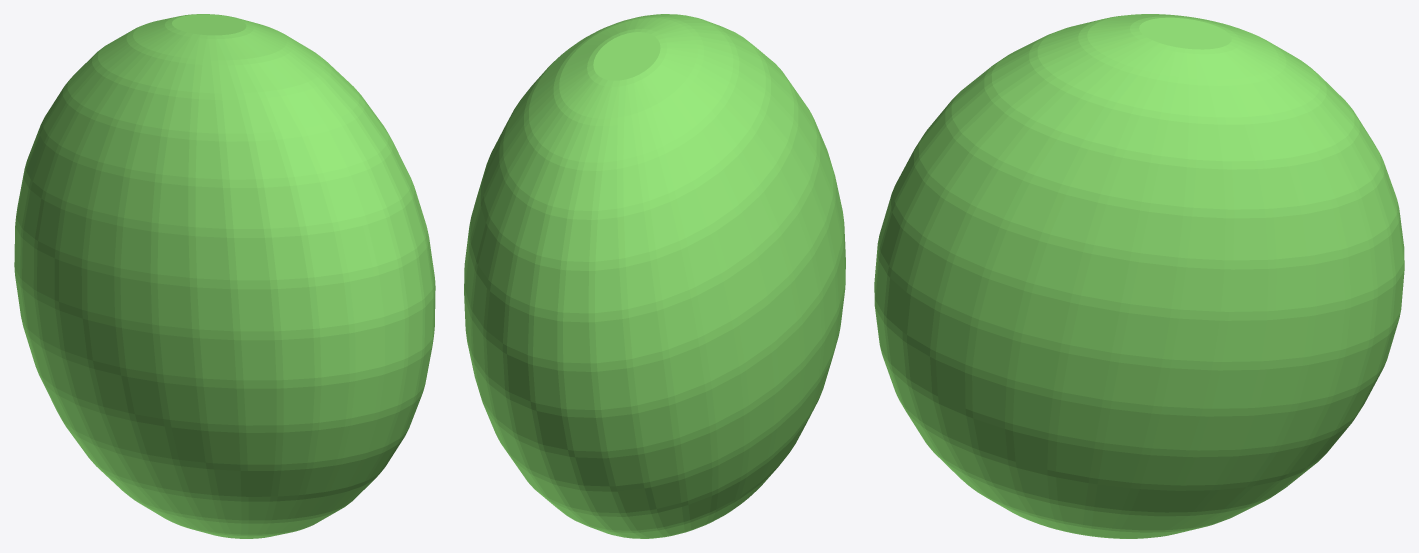
File: spher.001gltf.gltf
3 renders of one model, left to right at view 1: azimuth 30°, elevation 25°; view 2: azimuth 150°, elevation 25°; view 3: azimuth 270°, elevation 25°, orthographic. The views are drawn at different scales.
Visible parts, largest first — view 1: Sphere.001; view 2: Sphere.001; view 3: Sphere.001.
Boxes of the visible parts, box(x1,y1,x2,y2) form: Sphere.001: box(14, 14, 435, 538); Sphere.001: box(464, 14, 845, 538); Sphere.001: box(874, 14, 1404, 538).
Bounding box in the file's own units: 0.1776 × 0.2611 × 0.2479.
